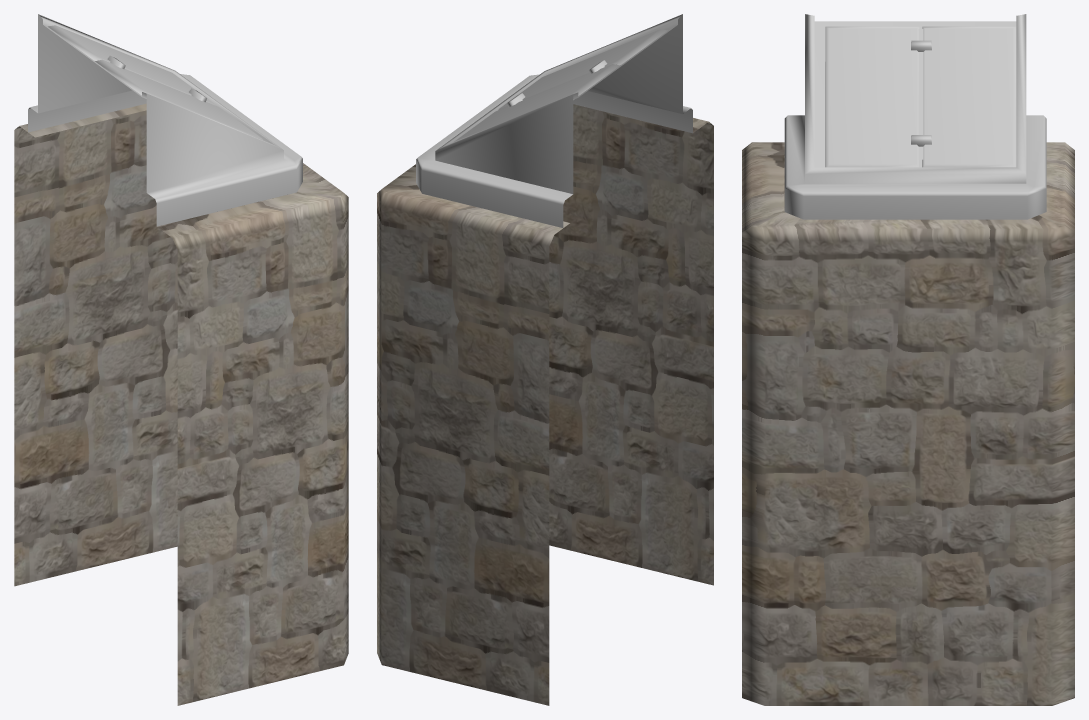
File: CellarEntrance.fbx
3 views of the same model, side by side, from view 1: azimuth 30°, elevation 25°; view 2: azimuth 150°, elevation 25°; view 3: azimuth 270°, elevation 25° (orthographic).
Visible parts, largest first — view 1: Mesh; view 2: Mesh; view 3: Mesh.
Boxes of the visible parts, box(x1,y1,x2,y2) form: Mesh: box(14, 14, 348, 705); Mesh: box(377, 14, 713, 705); Mesh: box(742, 14, 1074, 705).
Bounding box in the file's own units: 121 × 374 × 188.
